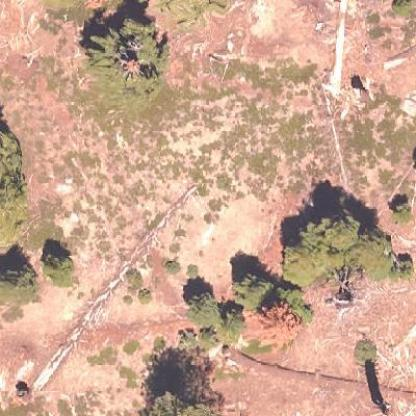tree-top: (280, 209, 399, 287), (83, 13, 173, 107), (239, 268, 312, 350), (187, 287, 248, 353), (128, 386, 229, 415), (0, 256, 38, 304), (40, 248, 80, 289), (388, 250, 415, 284), (385, 196, 415, 224)
